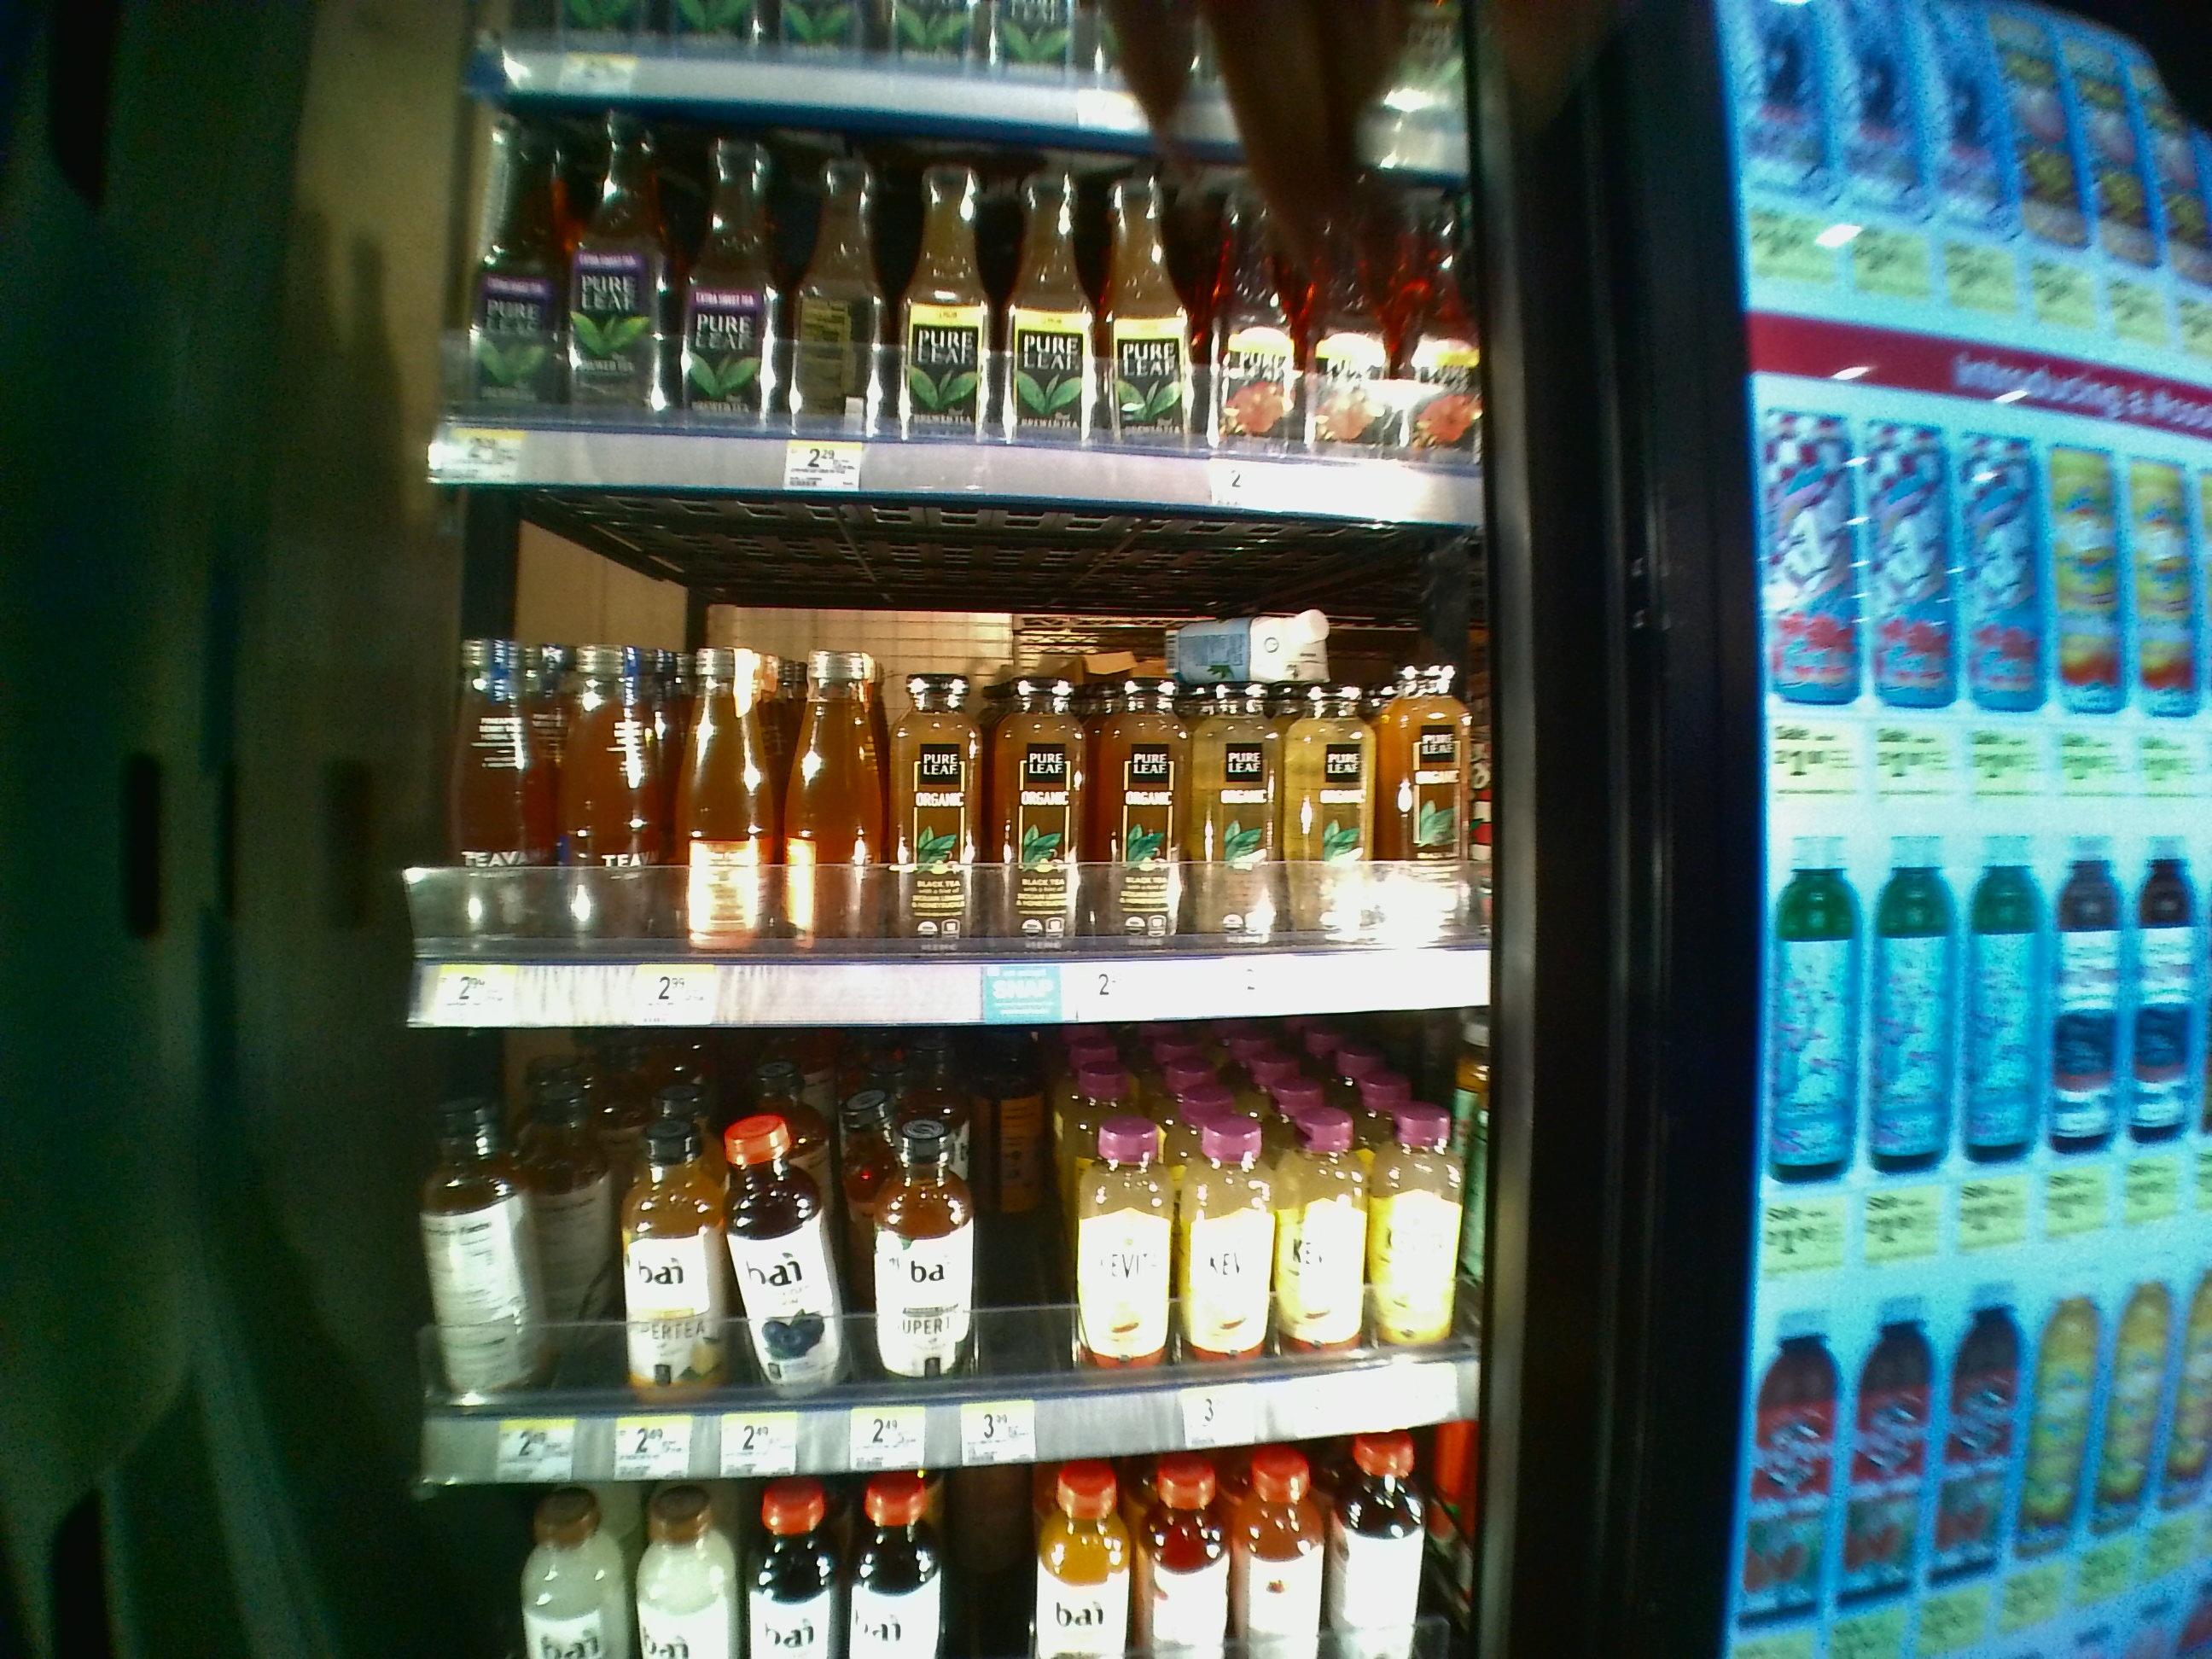shelf: (416, 500, 1489, 1025), (415, 1035, 1496, 1480), (427, 91, 1491, 483)
